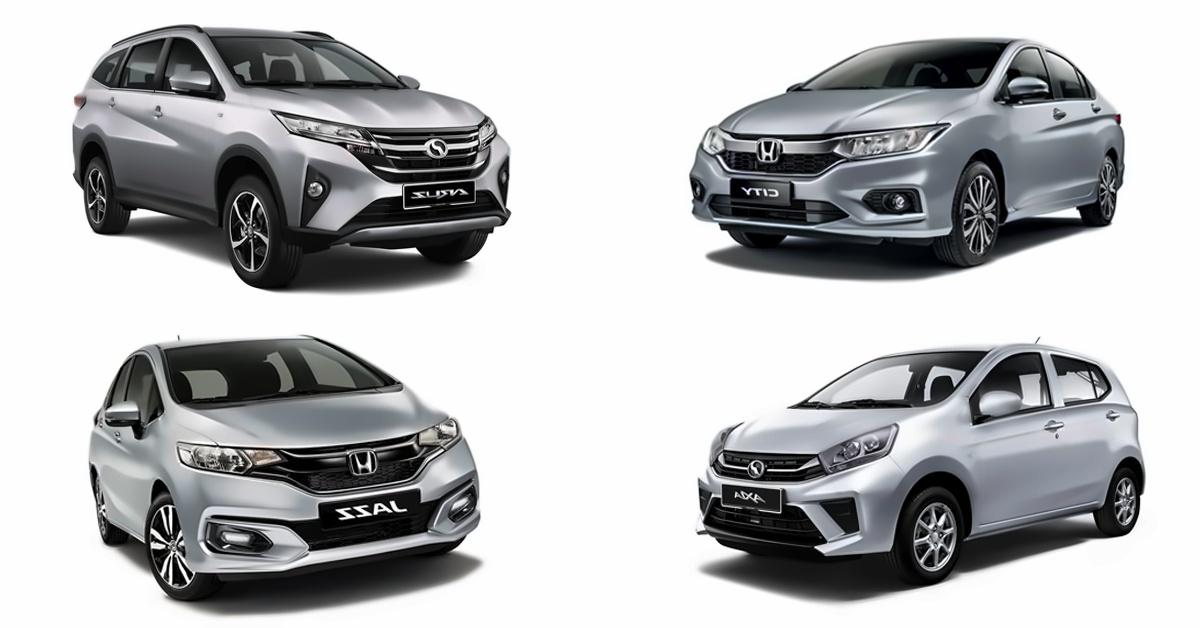Car hood: (186, 376, 451, 453), (717, 84, 986, 143), (259, 82, 497, 134), (723, 403, 916, 456)
Driver-s door - -F-R-: (153, 27, 227, 218), (122, 353, 159, 548)
Fender - -F-L-: (888, 390, 986, 553), (889, 388, 979, 544), (949, 83, 1014, 223)
Fender - -F-R-: (210, 90, 294, 224), (146, 404, 186, 558)
Fender - -R-L-: (1104, 420, 1140, 523), (1100, 116, 1131, 189)
Fender - -R-R-: (75, 100, 113, 176)
Front bumper: (169, 457, 517, 578), (682, 156, 956, 252), (273, 146, 516, 250), (684, 465, 916, 565)
Headlight - -L-: (830, 117, 956, 166), (814, 417, 905, 479), (406, 412, 468, 460), (470, 109, 504, 157)
Headlight - -R-: (267, 103, 384, 164), (173, 434, 286, 481), (704, 413, 746, 469), (690, 122, 732, 163)
Passenger-s door - -F-L-: (973, 344, 1064, 527), (1003, 40, 1062, 211)
Passenger-s door - -R-L-: (1063, 346, 1125, 505), (1050, 46, 1105, 200)
Passenger-s door - -R-R-: (103, 27, 162, 199), (96, 347, 129, 530)
Rear bumper: (62, 127, 98, 195), (1130, 446, 1158, 507), (1104, 102, 1137, 137), (1112, 140, 1134, 190)
Rear light - -R-: (69, 87, 97, 117)
Side bumper - -L-: (953, 491, 1116, 551), (1002, 183, 1103, 231)
Side bumper - -R-: (107, 183, 228, 243), (99, 510, 155, 551)
Side mirror - -L-: (390, 64, 438, 111), (973, 384, 1020, 431), (1003, 69, 1054, 112)
Side mirror - -R-: (162, 60, 233, 104), (96, 394, 150, 431), (773, 73, 815, 108)
